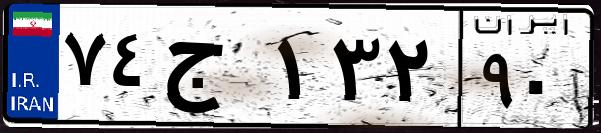0: (525, 38, 570, 115)
1: (270, 28, 330, 110)
2: (385, 28, 445, 110)
3: (330, 28, 385, 110)
4: (110, 28, 158, 98)
7: (57, 26, 110, 100)
9: (475, 38, 525, 113)
ج: (158, 20, 270, 120)
